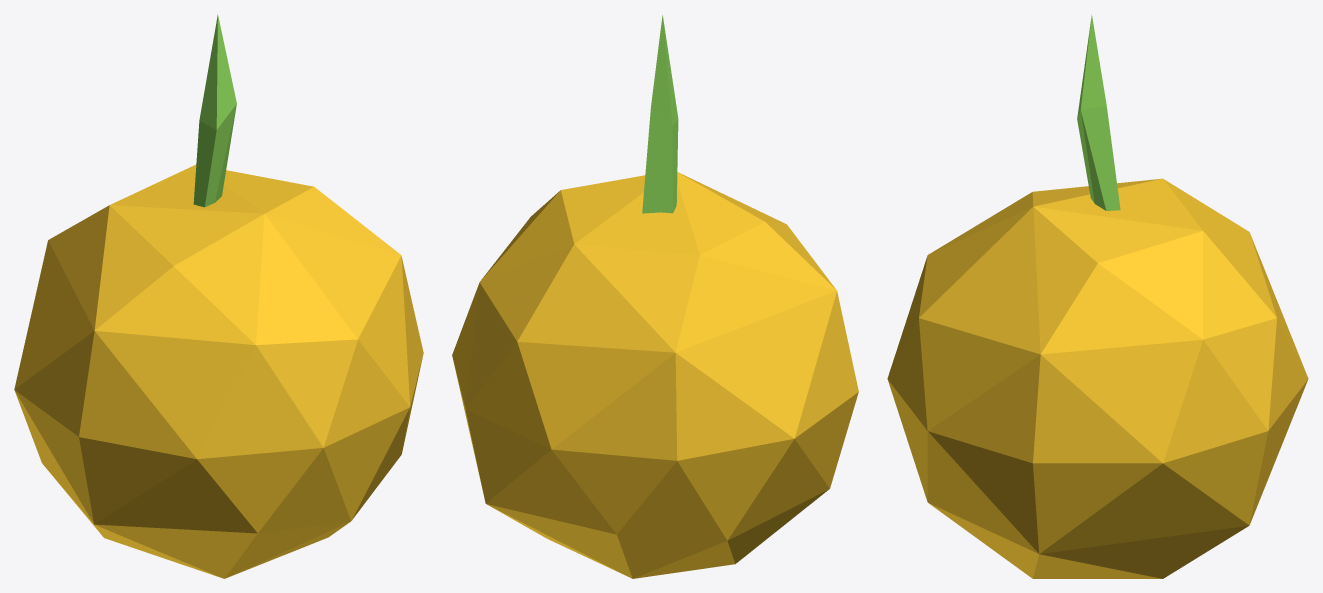
The model's file is orenge.fbx.
3 views of the same model, side by side, from view 1: azimuth 30°, elevation 25°; view 2: azimuth 150°, elevation 25°; view 3: azimuth 270°, elevation 25° (orthographic).
Parts seen in each view (by area): view 1: orenge; view 2: orenge; view 3: orenge.
Part boxes in pixels (x1,y1,x2,y2): orenge: (14,14,423,578); orenge: (452,15,858,578); orenge: (887,14,1308,578).
Bounding box in the file's own units: 69.25 × 105 × 72.82.
1 material, 1 textured.
